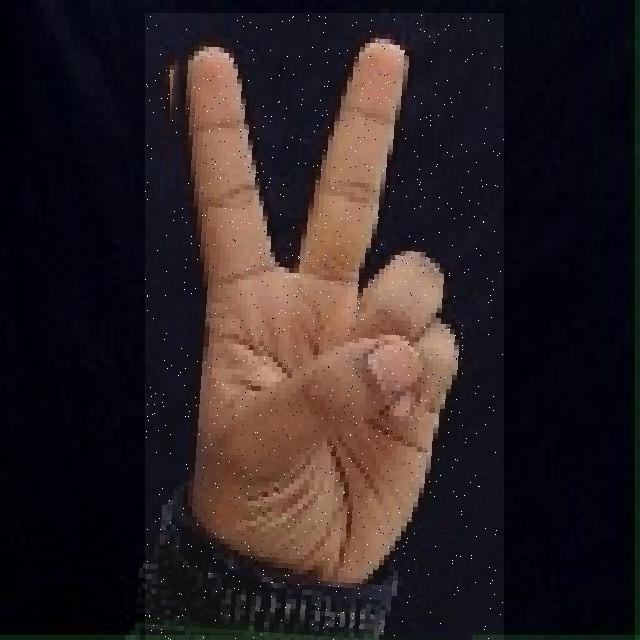No: (145, 13, 504, 640)
